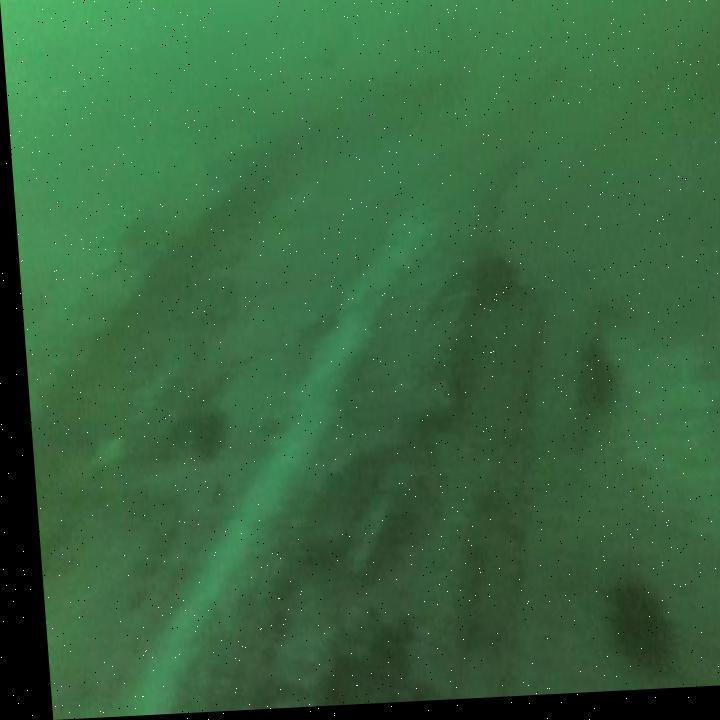echinus: (586, 566, 672, 687)
